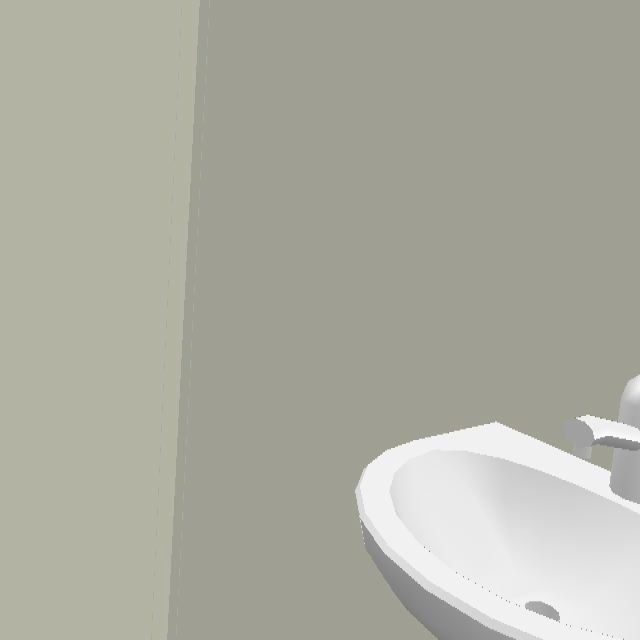washbasin: (354, 423, 640, 640)
